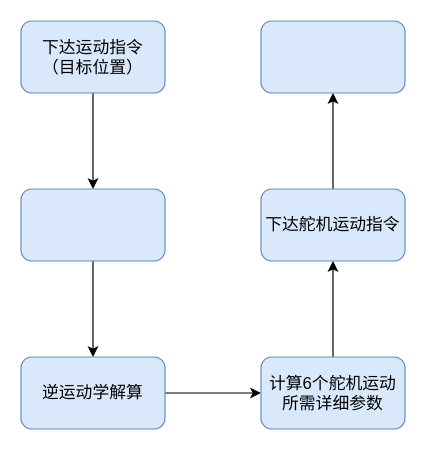
Some shapes in this 426 by 450 pixel diagram are drawn without their labels. Each missing label, with the centre of its shape:
"等待舵机运动结束" belongs at (332,56).
"获取当前6个舵机参数" belongs at (92,224).
